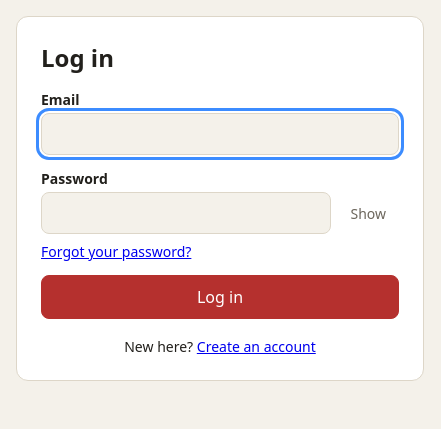
Test: log in › says when the email or password is wrong
This screenshot has width=441, height=429.
Type " a@example.com " into the field labelled "Email". click: coordinates (220, 134)
box: [41,113,399,155]
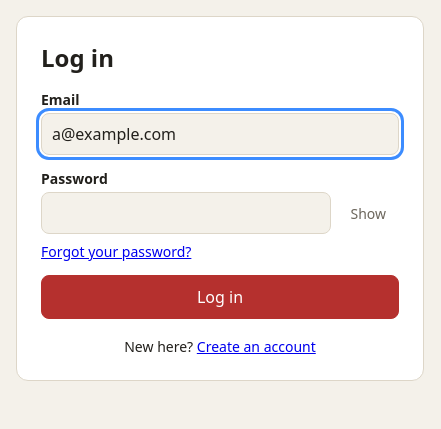
Type "wrong-password" into the password field labelled "Password". click: coordinates (186, 213)
box: [41,192,332,234]
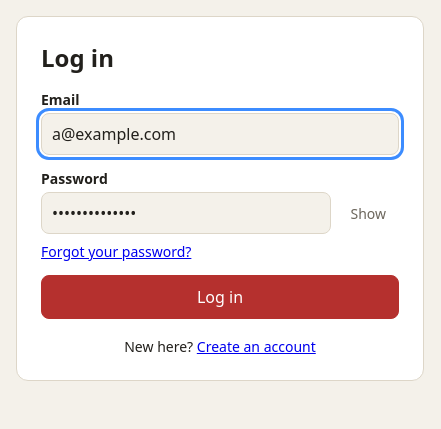
Click the button "Log in". click: coordinates (220, 297)
box: [41,275,399,319]
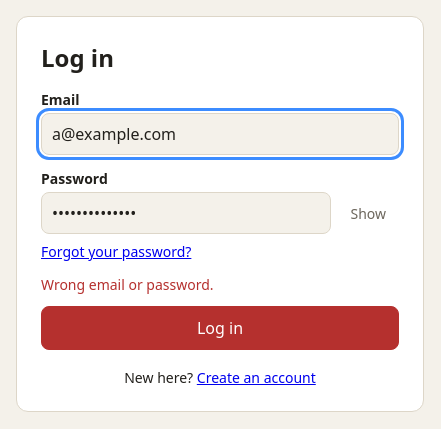
Expected: the button "Log in" is enabled, [41,306,399,350]
Expected: the message reads "Wrong email or password.", [41,275,214,294]
